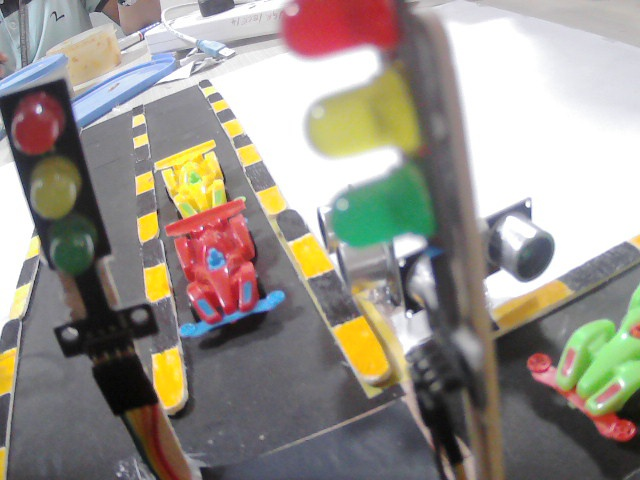car: (530, 280, 640, 438), (162, 218, 271, 332), (146, 153, 244, 211)
traffic_light: (301, 0, 440, 249), (1, 100, 93, 291)
uno_breadboard: (316, 201, 448, 320), (481, 199, 550, 280)
